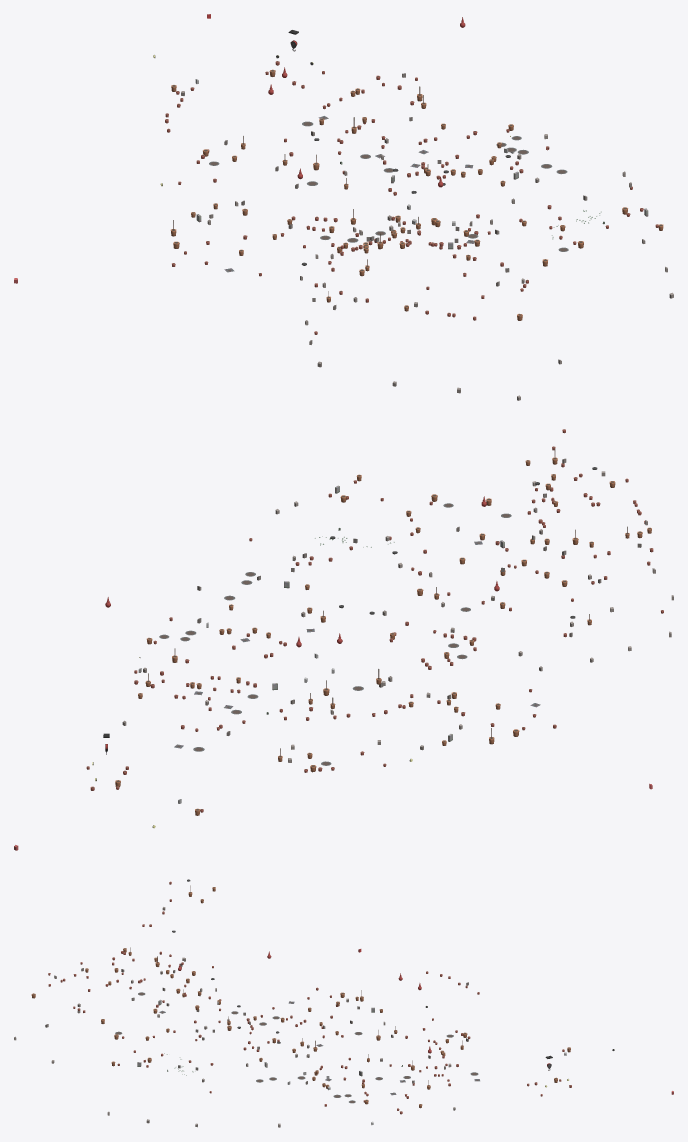
Rendered from props.glb.
3 views of the same model, one above another, from view 1: azimuth 30°, elevation 25°; view 2: azimuth 150°, elevation 25°; view 3: azimuth 270°, elevation 25° (orthographic). The views are drawn at different scales.
Visible parts, largest first — view 1: Props.007, Props.005, Props.001, Props.006, Props.008, Props.009, Props.003; view 2: Props.007, Props.005, Props.001, Props.008, Props.006, Props.009; view 3: Props.007, Props.005, Props.001, Props.006, Props.008.
Boxes of the visible parts, <box> form: Props.007: <box>300,117,561,400</box>; Props.005: <box>391,124,587,225</box>; Props.001: <box>302,17,510,175</box>; Props.006: <box>500,154,673,298</box>; Props.008: <box>331,117,514,302</box>; Props.009: <box>272,154,416,241</box>; Props.003: <box>160,67,293,205</box>; Props.007: <box>410,429,673,671</box>; Props.005: <box>138,580,343,690</box>; Props.001: <box>105,597,294,751</box>; Props.008: <box>382,460,530,656</box>; Props.006: <box>245,474,453,589</box>; Props.009: <box>308,581,499,708</box>; Props.007: <box>14,879,229,1063</box>; Props.005: <box>269,1038,373,1127</box>; Props.001: <box>375,1040,479,1114</box>; Props.006: <box>107,1026,267,1127</box>; Props.008: <box>184,899,266,1082</box>.
Size of the model in its own units: 27.29 by 10.52 by 43.18.
Materials: 10 (10 with a texture image).
